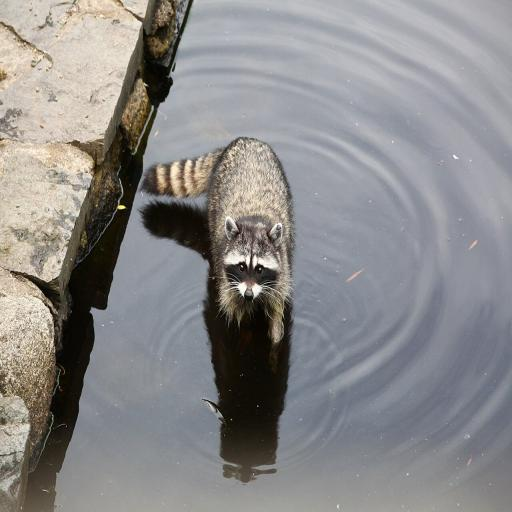raccoon: (142, 138, 294, 346)
